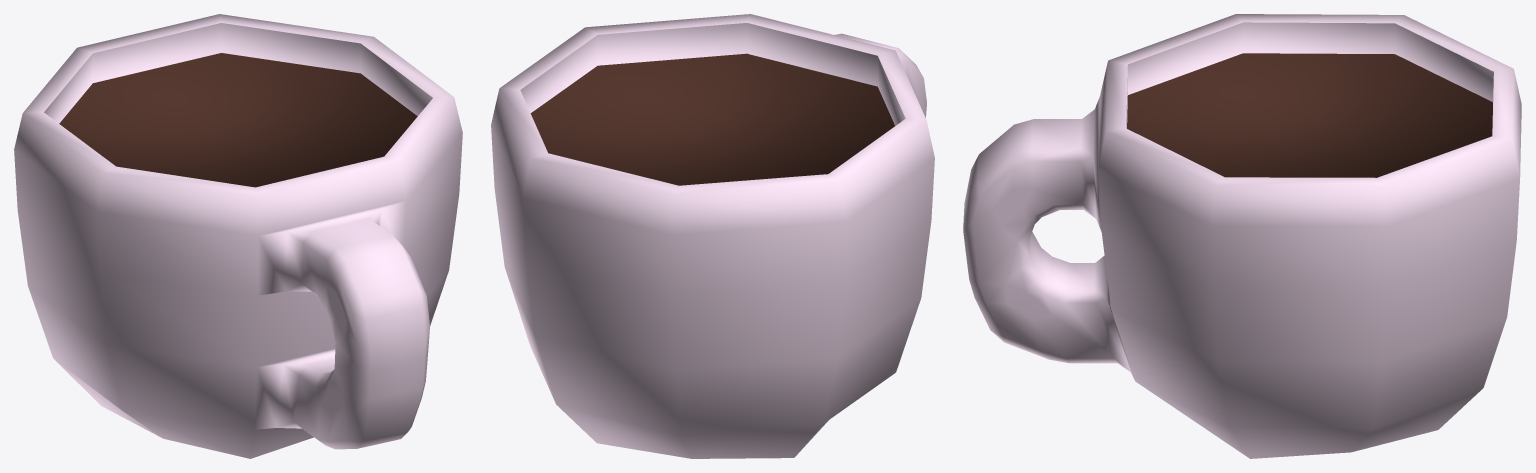
File: CoffeeCup.fbx
3 views of the same model, side by side, from view 1: azimuth 30°, elevation 25°; view 2: azimuth 150°, elevation 25°; view 3: azimuth 270°, elevation 25° (orthographic). The views are drawn at different scales.
Visible parts, largest first — view 1: Coffee_cup full; view 2: Coffee_cup full; view 3: Coffee_cup full.
Part boxes in pixels (x1,y1,x2,y2): Coffee_cup full: (14, 14, 462, 458); Coffee_cup full: (491, 14, 934, 458); Coffee_cup full: (963, 14, 1521, 458).
Size of the model in its own units: 45.15 by 35.83 by 59.56.
Materials: 1 (1 with a texture image).
